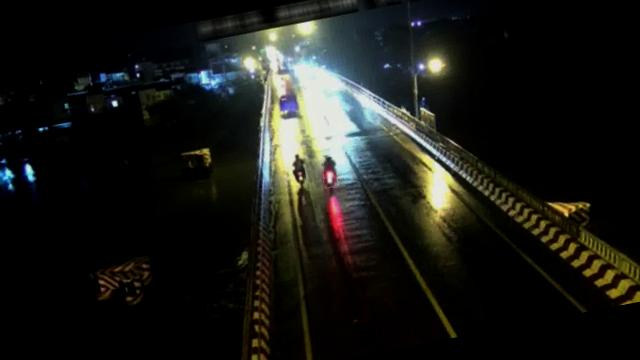Bike: (319, 156, 342, 188), (289, 152, 308, 186)
